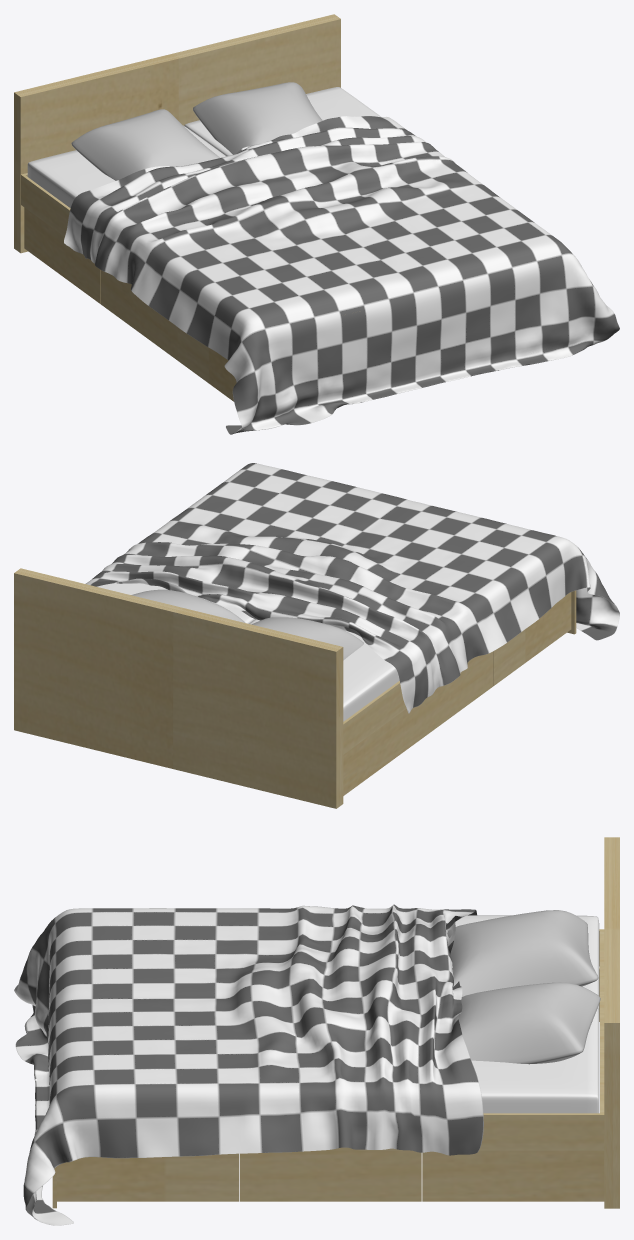
File: blend0-bedWithTexture-quality-v2.glb
3 views of the same model, one above another, from view 1: azimuth 30°, elevation 25°; view 2: azimuth 150°, elevation 25°; view 3: azimuth 270°, elevation 25° (orthographic). The views are drawn at different scales.
Parts seen in each view (by area): view 1: blanket_Plane.003, bed_head_Plane.001, bed_frame_Cube, pillow_Cube.003, pillow.001_Cube.002, matress_Cube.001; view 2: blanket_Plane.003, bed_head_Plane.001, bed_frame_Cube, matress_Cube.001, pillow_Cube.003, pillow.001_Cube.002; view 3: blanket_Plane.003, bed_frame_Cube, pillow_Cube.003, pillow.001_Cube.002, matress_Cube.001, bed_head_Plane.001.
Boxes of the visible parts, left/top/right/bottom form: blanket_Plane.003: left=64, top=116, right=619, bottom=434; bed_head_Plane.001: left=14, top=14, right=340, bottom=253; bed_frame_Cube: left=21, top=173, right=236, bottom=401; pillow_Cube.003: left=71, top=109, right=220, bottom=180; pillow.001_Cube.002: left=193, top=82, right=322, bottom=154; matress_Cube.001: left=27, top=87, right=381, bottom=207; blanket_Plane.003: left=85, top=463, right=619, bottom=713; bed_head_Plane.001: left=14, top=568, right=343, bottom=808; bed_frame_Cube: left=343, top=590, right=576, bottom=795; matress_Cube.001: left=97, top=583, right=399, bottom=721; pillow_Cube.003: left=251, top=617, right=363, bottom=660; pillow.001_Cube.002: left=131, top=589, right=245, bottom=622; blanket_Plane.003: left=14, top=904, right=483, bottom=1225; bed_frame_Cube: left=52, top=929, right=604, bottom=1208; pillow_Cube.003: left=447, top=910, right=598, bottom=996; pillow.001_Cube.002: left=458, top=982, right=600, bottom=1064; matress_Cube.001: left=455, top=915, right=599, bottom=1113; bed_head_Plane.001: left=604, top=837, right=619, bottom=1208.
Size of the model in its own units: 1.98 by 0.765 by 2.26.
5 materials, 2 textured.
